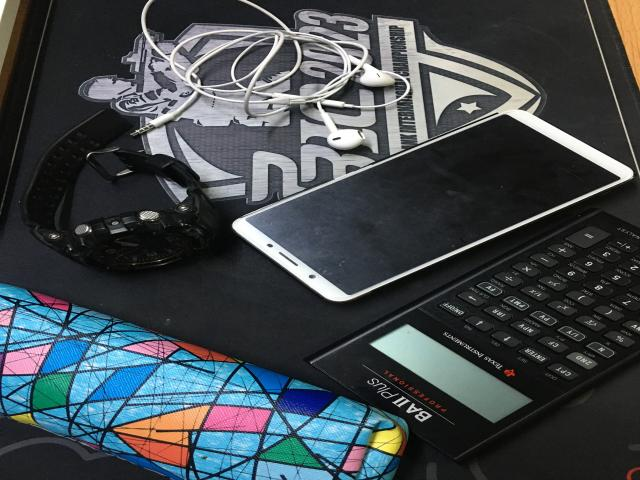Mobile phone: (233, 110, 633, 302)
Watch: (22, 109, 218, 271)
wire: (132, 0, 412, 152)
